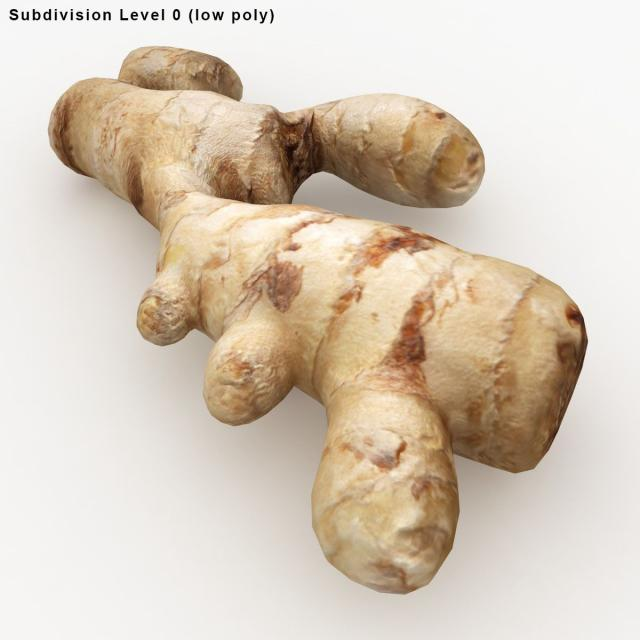ginger-root: (39, 37, 605, 610)
